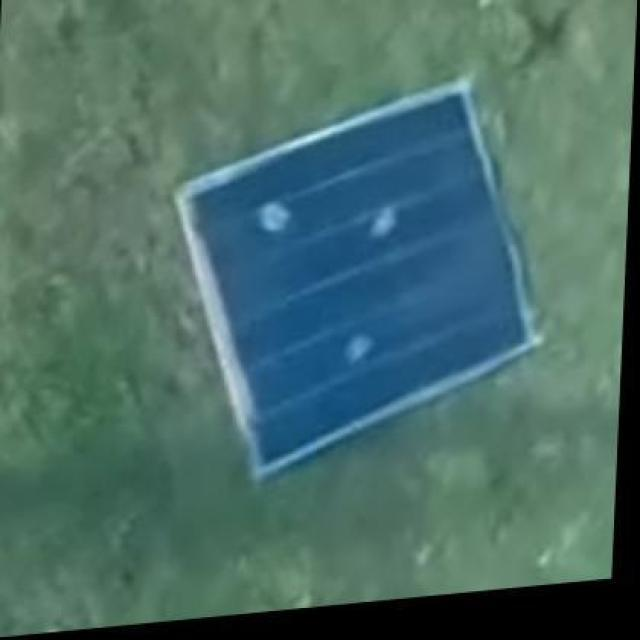soiled: (180, 80, 542, 476)
